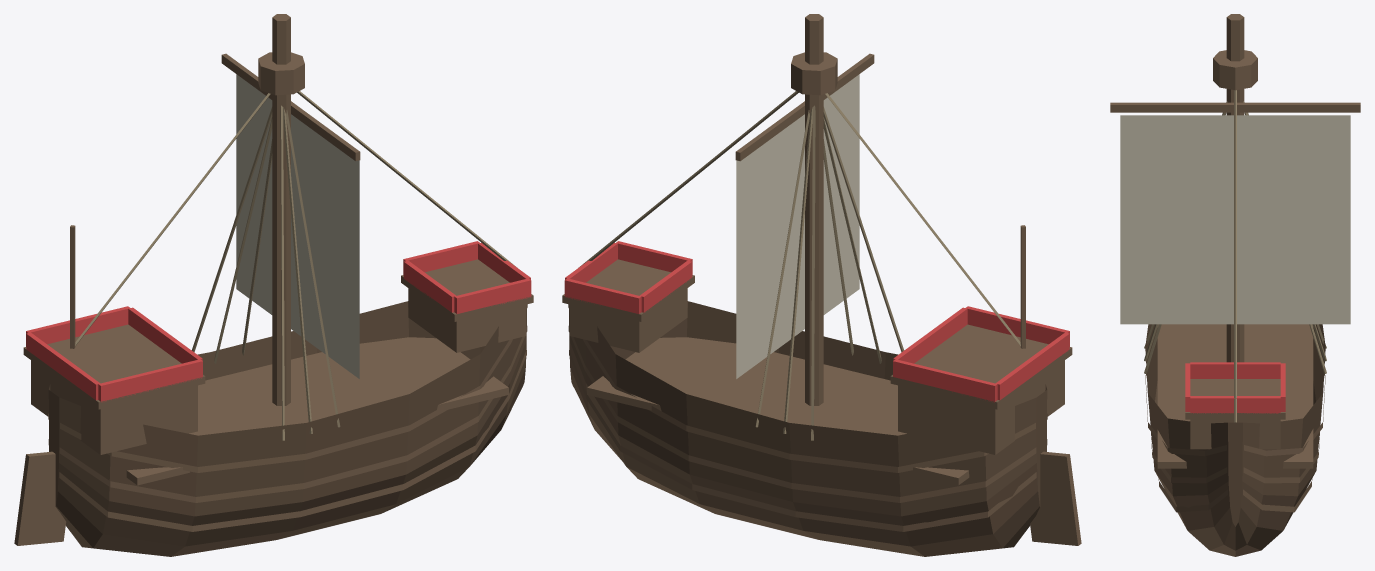
Rendered from cog.glb.
The picture shows the model from 3 angles, left to right: view 1: azimuth 30°, elevation 25°; view 2: azimuth 150°, elevation 25°; view 3: azimuth 270°, elevation 25°; orthographic projection. The views are drawn at different scales.
Parts seen in each view (by area): view 1: cog; view 2: cog; view 3: cog.
Part boxes in pixels (bbox=[...]): cog: bbox=[14, 14, 533, 556]; cog: bbox=[562, 14, 1081, 556]; cog: bbox=[1110, 14, 1360, 556].
Bounding box in the file's own units: 2.19 × 2.1 × 1.
